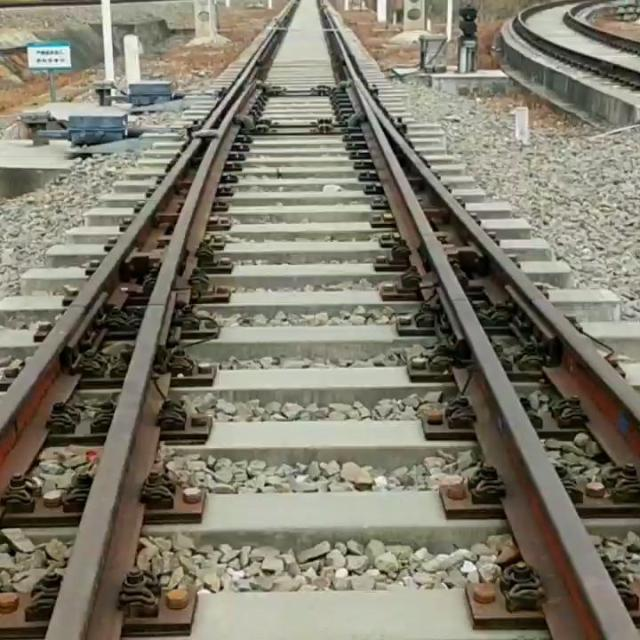rail: (316, 0, 640, 493), (346, 82, 621, 640), (0, 1, 292, 483), (45, 85, 254, 640), (511, 1, 640, 88), (561, 0, 640, 55)
